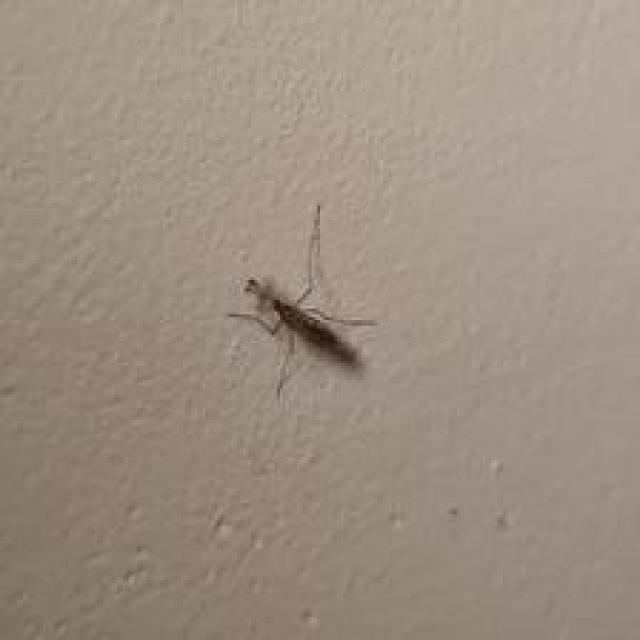Culex: (226, 203, 377, 400)
